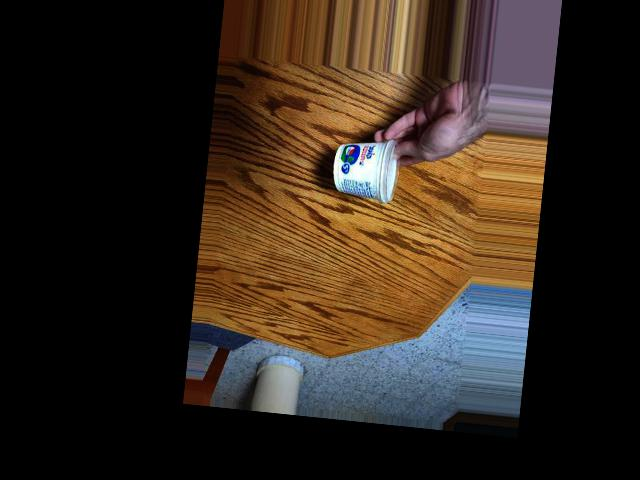cotage: (329, 122, 414, 211)
